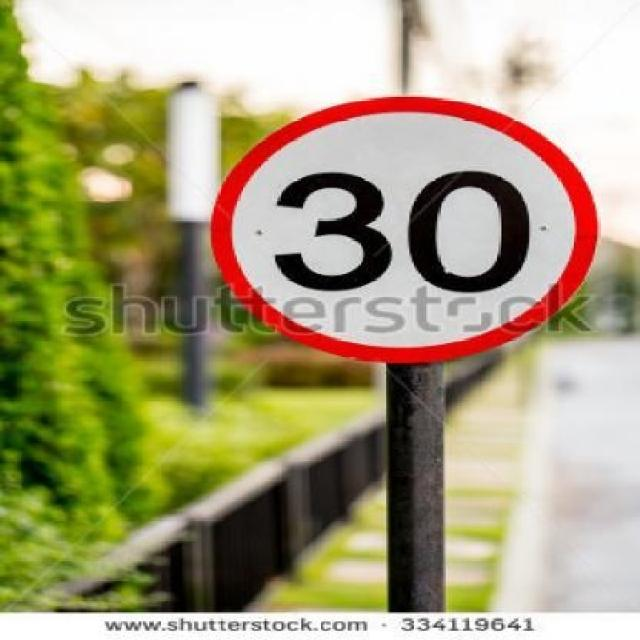forb_speed_over_30: (211, 92, 594, 354)
